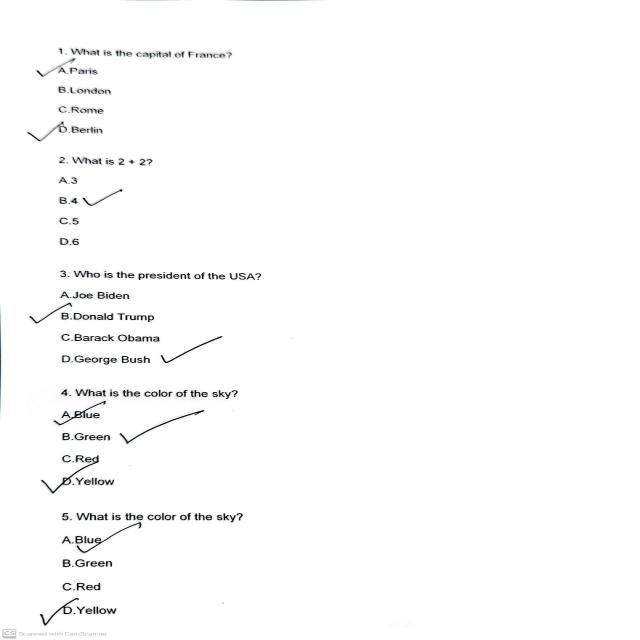Student_Ticked: (120, 412, 198, 444), (78, 523, 150, 553), (158, 338, 228, 362), (76, 182, 126, 210), (43, 466, 91, 492), (35, 52, 78, 80), (41, 595, 78, 626), (54, 400, 98, 424), (23, 117, 66, 141), (31, 297, 68, 324)
